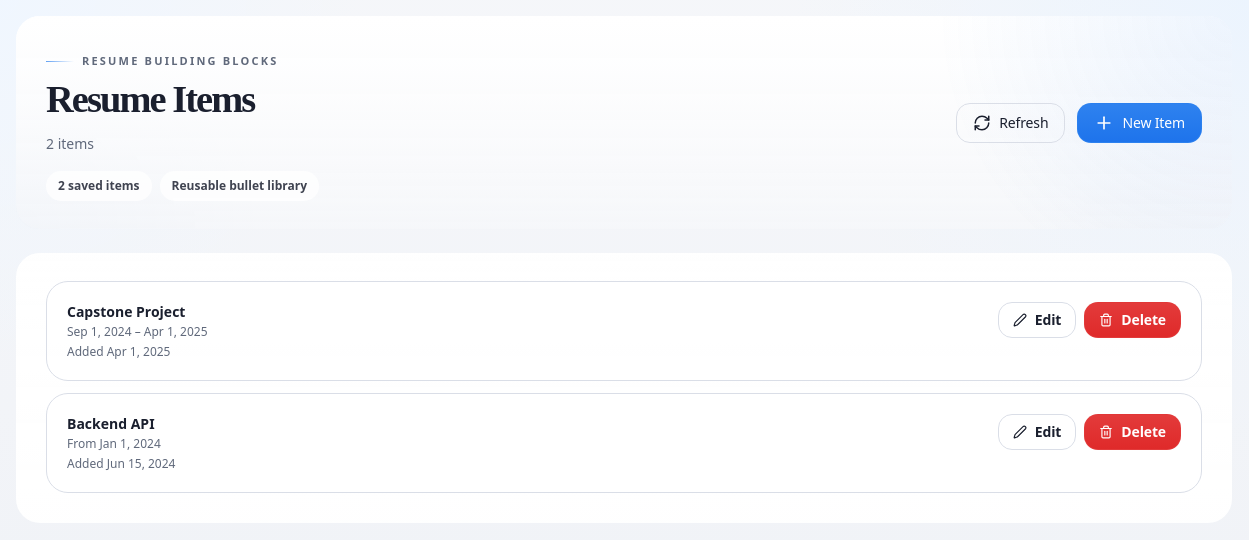
Scenario: ResumesPage › deletes item when confirmed
Click the button "Delete" in the row of "Sep 1, 2024 – Apr 1, 2025" at (1133, 320), box [1084,302,1181,338]
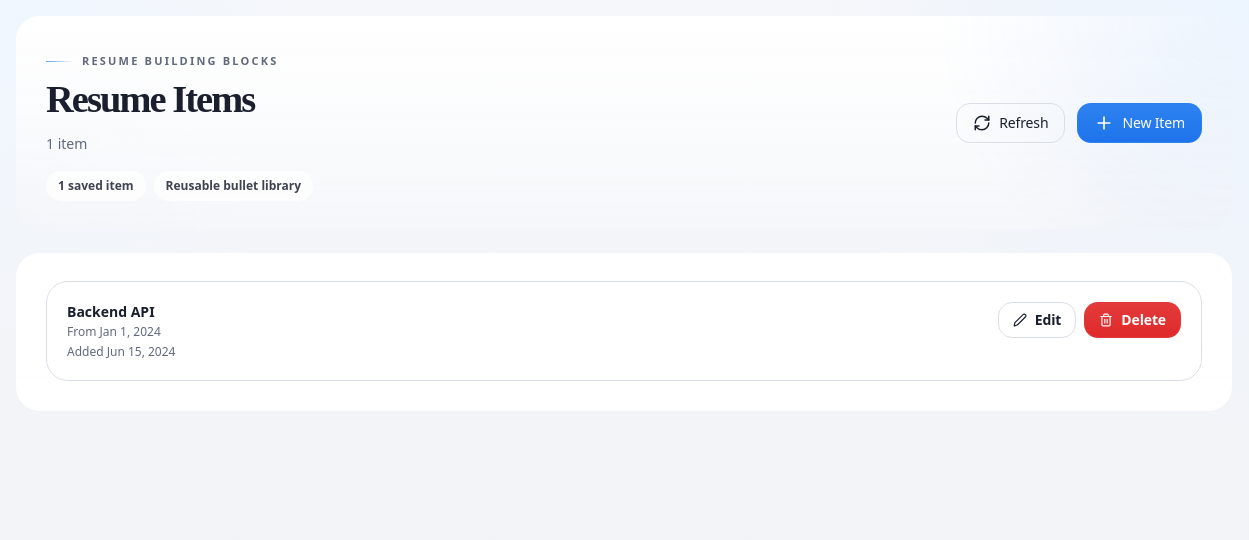
Expected: the text "Capstone Project" is gone
